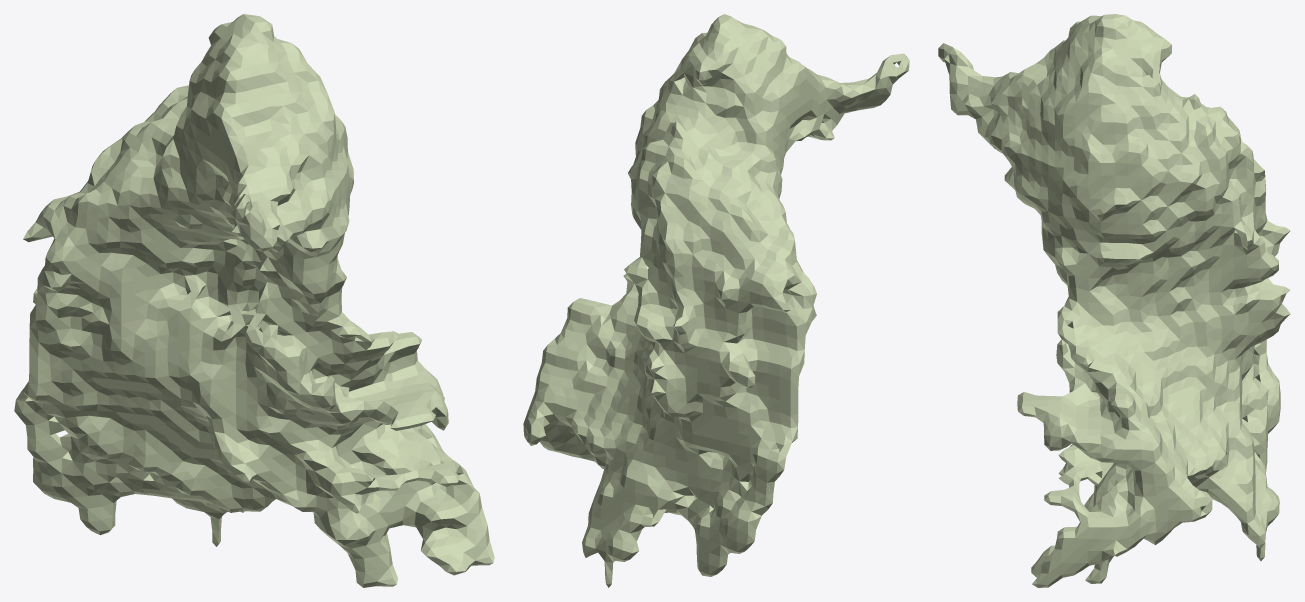
File: aseg_007_Left-Cerebellum-White-Matter.glb
The picture shows the model from 3 angles, left to right: view 1: azimuth 30°, elevation 25°; view 2: azimuth 150°, elevation 25°; view 3: azimuth 270°, elevation 25°; orthographic projection. The views are drawn at different scales.
Size of the model in its own units: 27.67 by 43.65 by 26.55.
